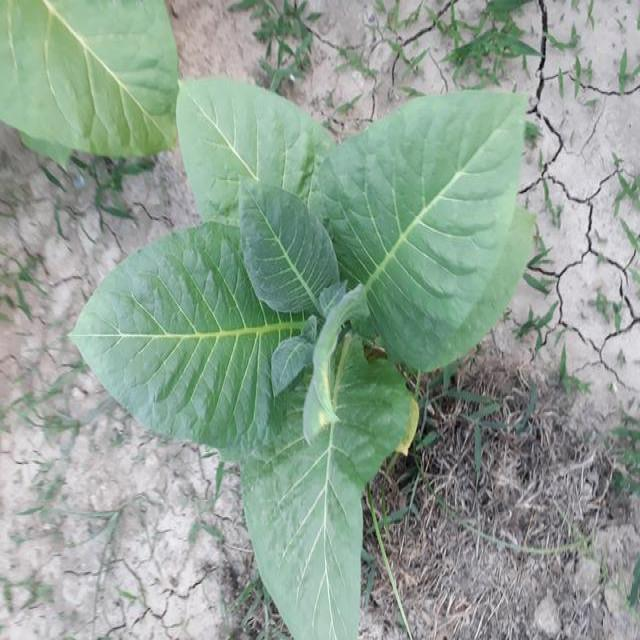crop: (83, 64, 516, 612)
